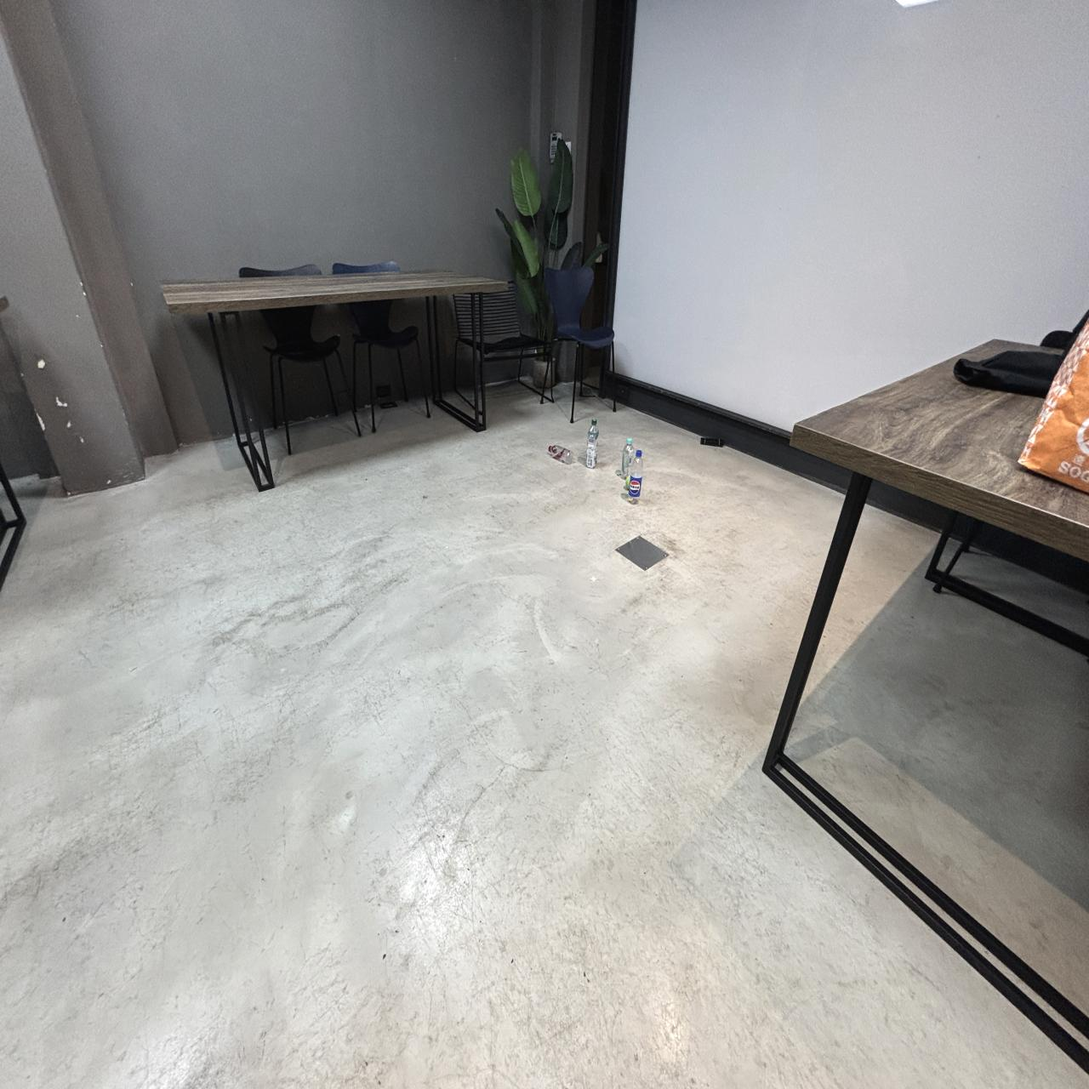plastic-bottle: (618, 438, 634, 487), (628, 450, 642, 503), (587, 419, 598, 468)
